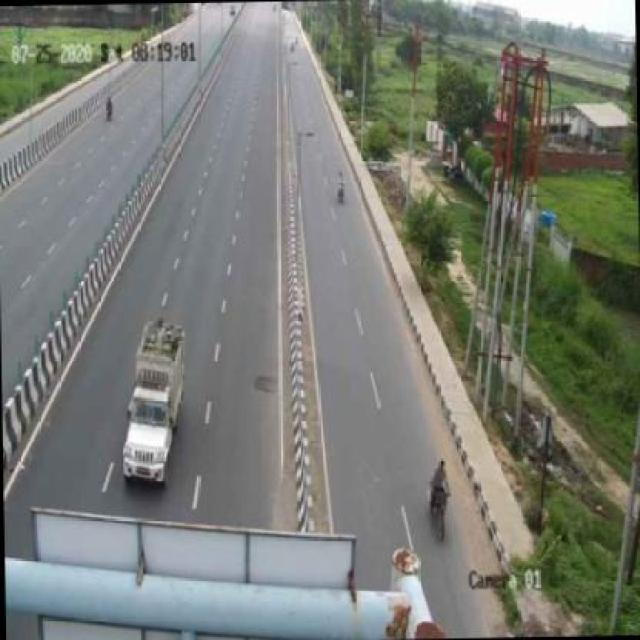car: (115, 315, 198, 494)
